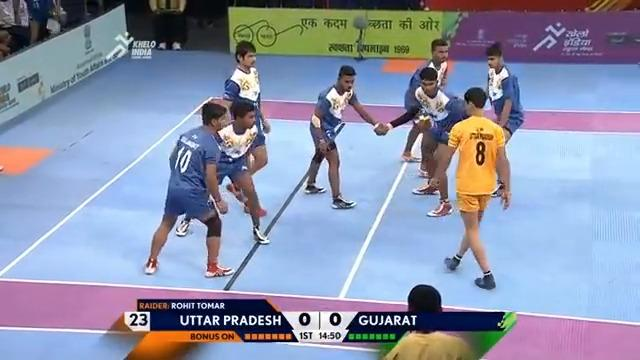Player: (143, 100, 235, 278), (175, 98, 270, 244), (379, 66, 467, 217), (303, 64, 386, 209), (213, 39, 271, 218), (483, 42, 524, 197), (401, 38, 450, 162)
Raider: (427, 86, 512, 289)
referee: (380, 283, 477, 359), (148, 0, 188, 50)
